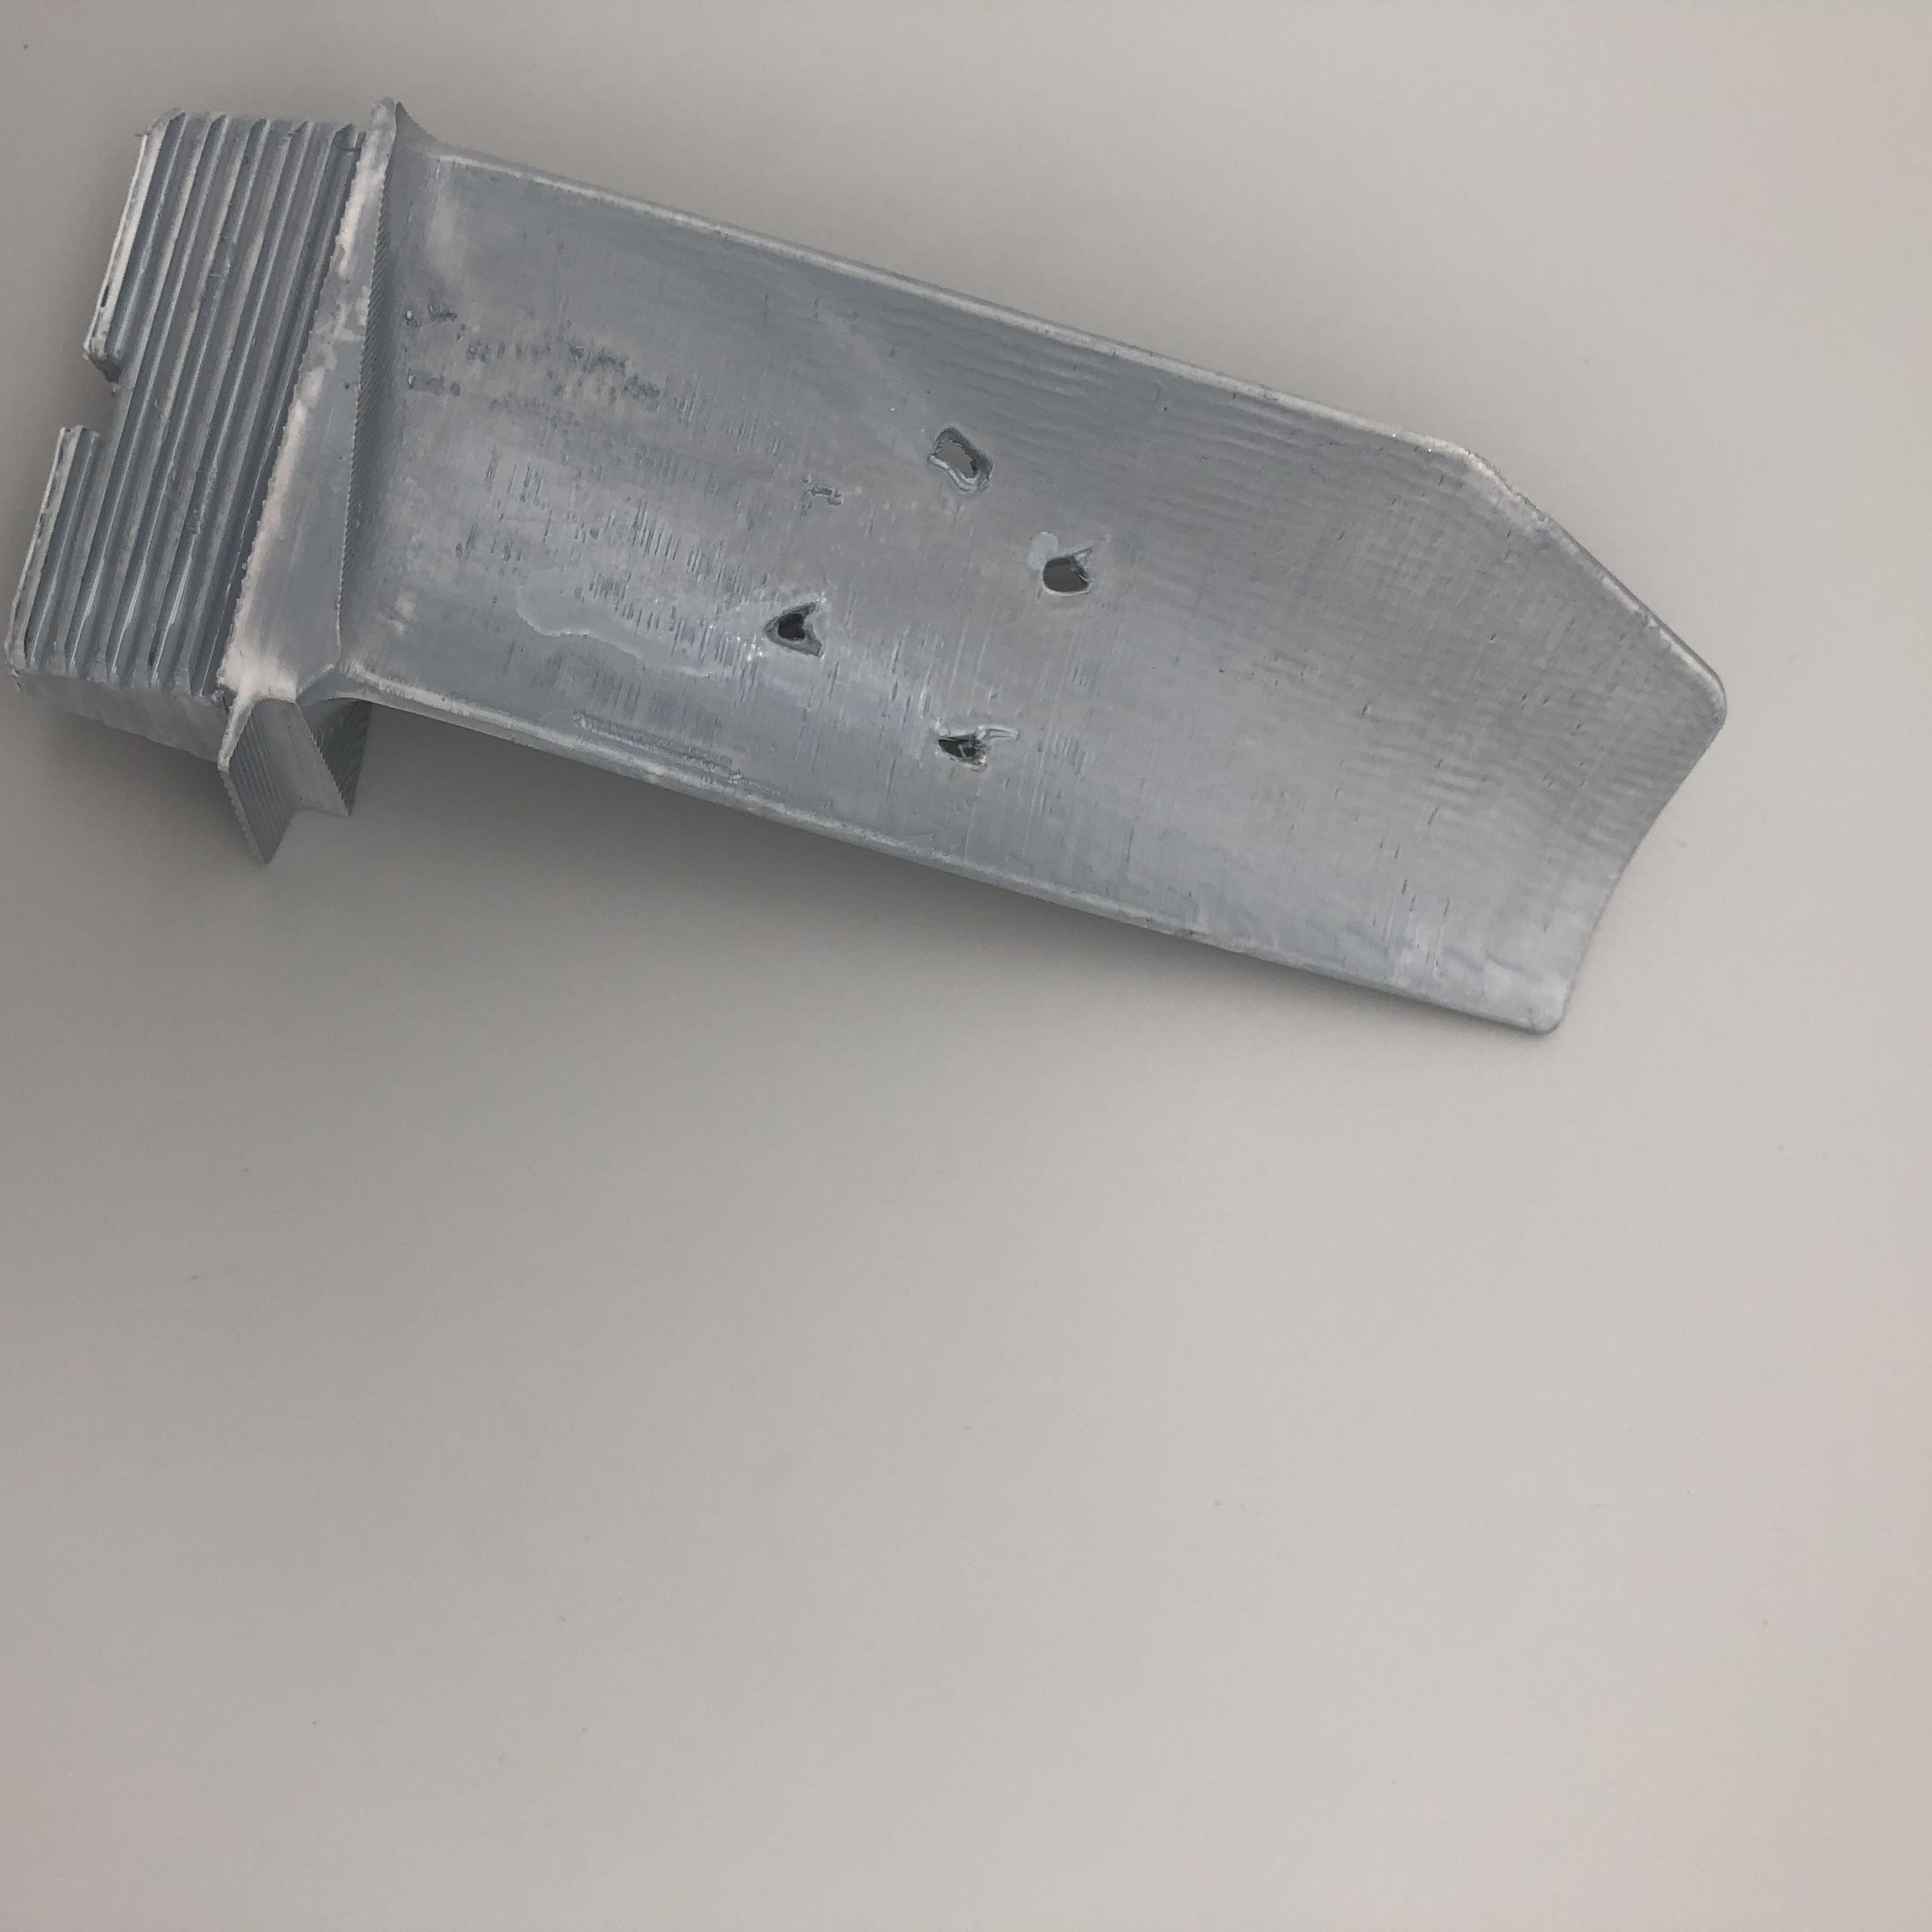breakdown: (789, 423, 1113, 759)
